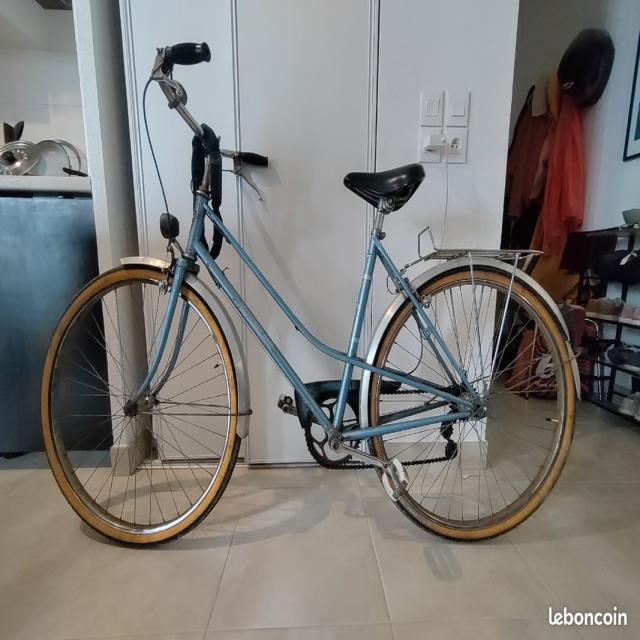Bike: (41, 42, 578, 545)
